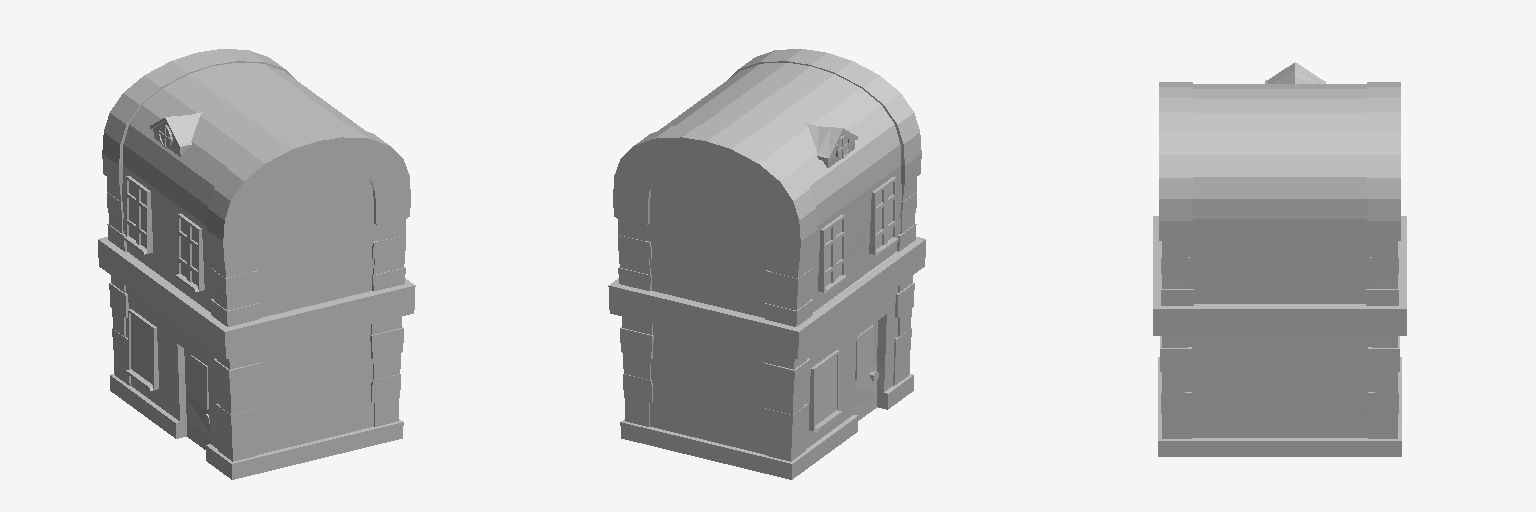
Rendered from 1_CityB_NewHouse_v1_right.obj.
The picture shows the model from 3 angles: view 1: azimuth 30°, elevation 25°; view 2: azimuth 150°, elevation 25°; view 3: azimuth 270°, elevation 25°; orthographic projection.
Parts seen in each view (by area): view 1: CityB_NewHouse_mesh; view 2: CityB_NewHouse_mesh; view 3: CityB_NewHouse_mesh.
Boxes of the visible parts, x1,y1,x2,y2 form: CityB_NewHouse_mesh: [98, 49, 415, 479]; CityB_NewHouse_mesh: [608, 49, 925, 479]; CityB_NewHouse_mesh: [1153, 62, 1406, 456].
Size of the model in its own units: 8.64 by 13.66 by 9.91.